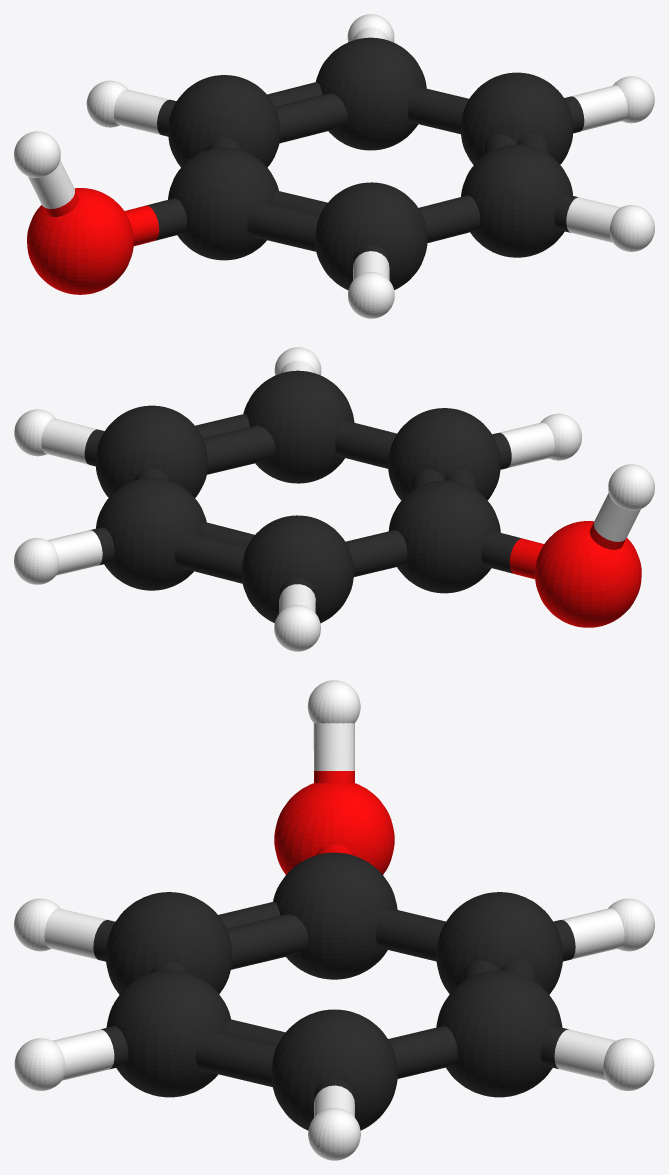
The model's file is fenol.obj.
3 renders of one model, top to bottom at view 1: azimuth 30°, elevation 25°; view 2: azimuth 150°, elevation 25°; view 3: azimuth 270°, elevation 25°, orthographic. The views are drawn at different scales.
Parts seen in each view (by area): view 1: fenol; view 2: fenol; view 3: fenol.
Boxes of the visible parts, <box> form: fenol: <box>14,14,654,318</box>; fenol: <box>14,347,654,651</box>; fenol: <box>14,680,654,1160</box>.
Bounding box in the file's own units: 6 × 1.51 × 4.66.
